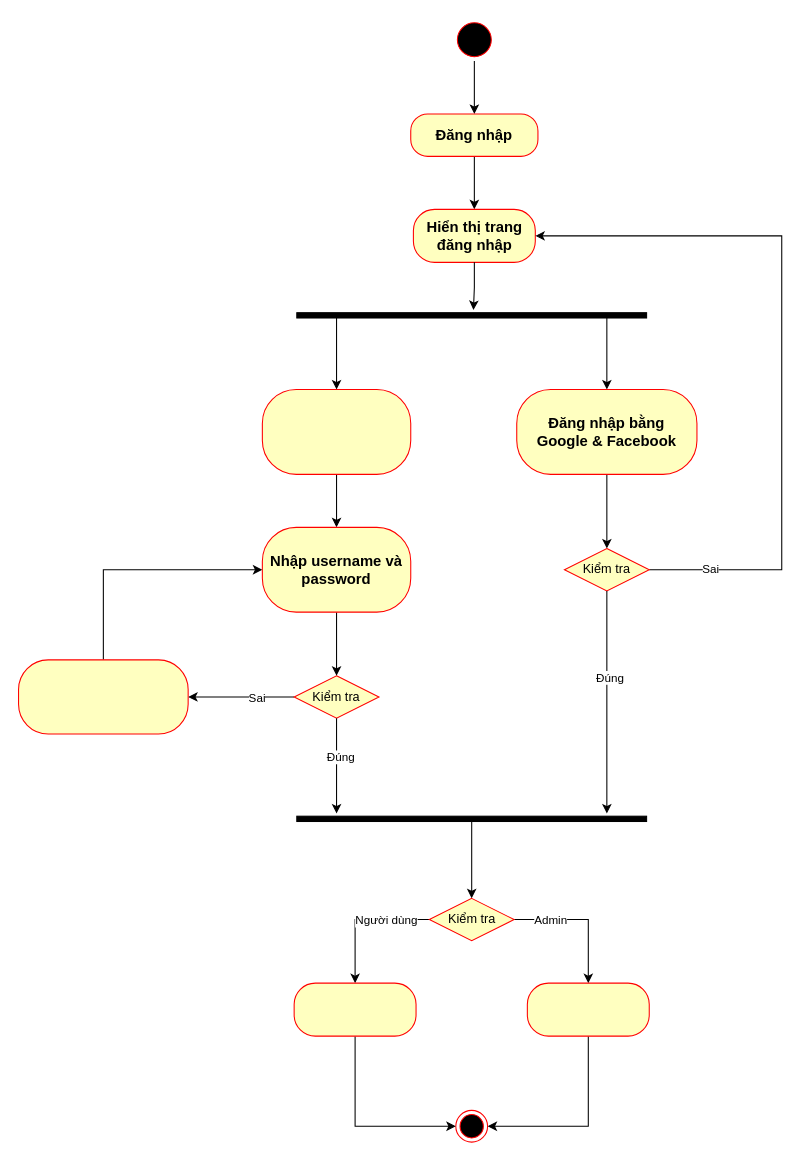
Some shapes in this 809 by 1161 pixel diagram are drawn without their labels. Each missing label, with the centre of its shape:
"Hiển thị trang chủ Admin" goes at point 587,1009.
"Hiển thị trang chủ User" goes at point 354,1009.
"Hiện thông báo sai username hoặc password" goes at point 102,696.
"Đăng nhập bằng username, password" goes at point 336,431.
